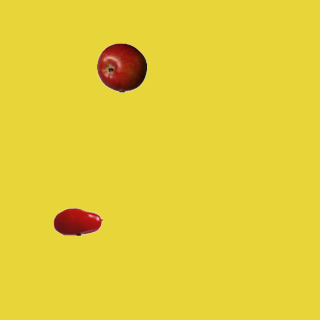Apple Braeburn: (96, 42, 146, 92)
Tomato 2: (52, 196, 102, 246)
